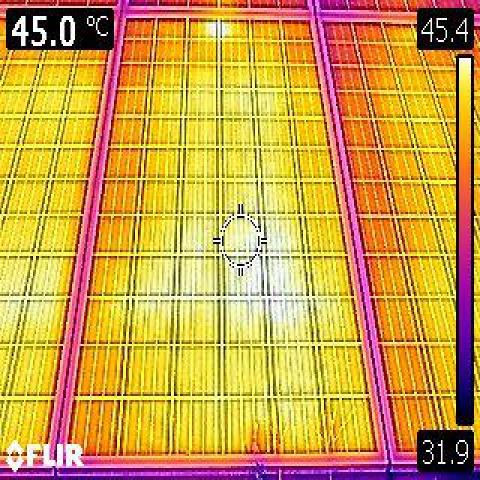fault: (223, 282, 316, 329), (207, 21, 234, 39)
